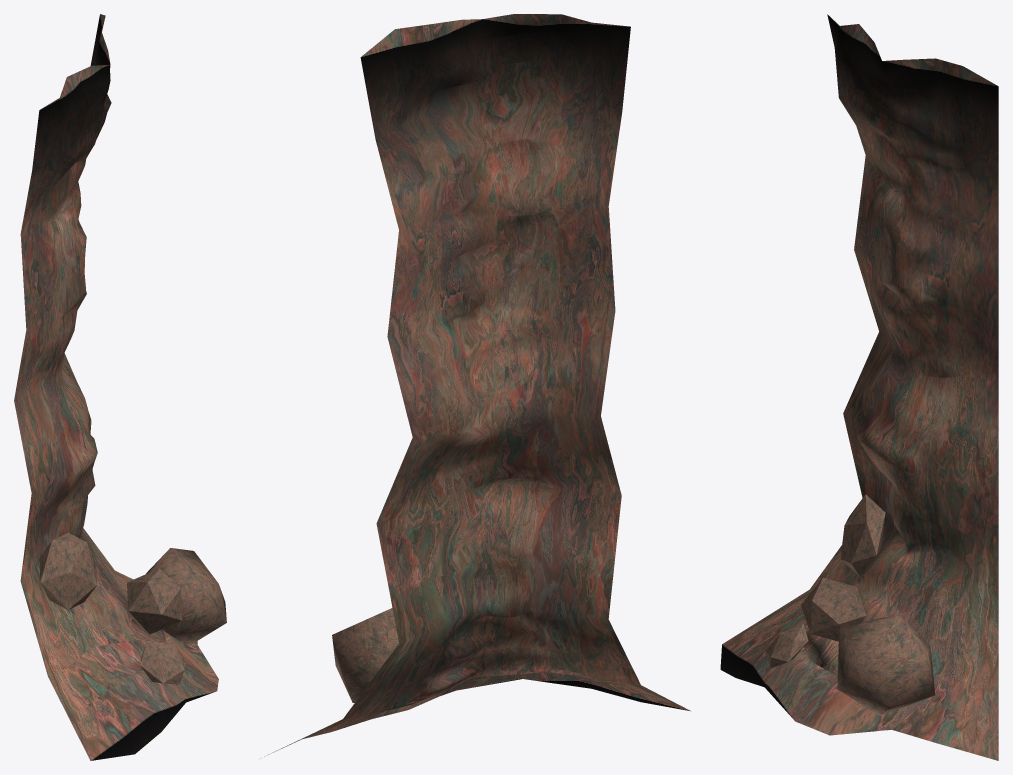
Rendered from cave_walls_convex1.glb.
3 renders of one model, left to right at view 1: azimuth 30°, elevation 25°; view 2: azimuth 150°, elevation 25°; view 3: azimuth 270°, elevation 25°, orthographic. The views are drawn at different scales.
Visible parts, largest first — view 1: cave_convex1-col; view 2: cave_convex1-col; view 3: cave_convex1-col.
Part boxes in pixels (x1=…): cave_convex1-col: x1=14, y1=14, x2=226, y2=760; cave_convex1-col: x1=264, y1=14, x2=690, y2=756; cave_convex1-col: x1=720, y1=14, x2=998, y2=760.
Size of the model in its own units: 1.6 by 4.15 by 1.61.
2 materials, 2 textured.
